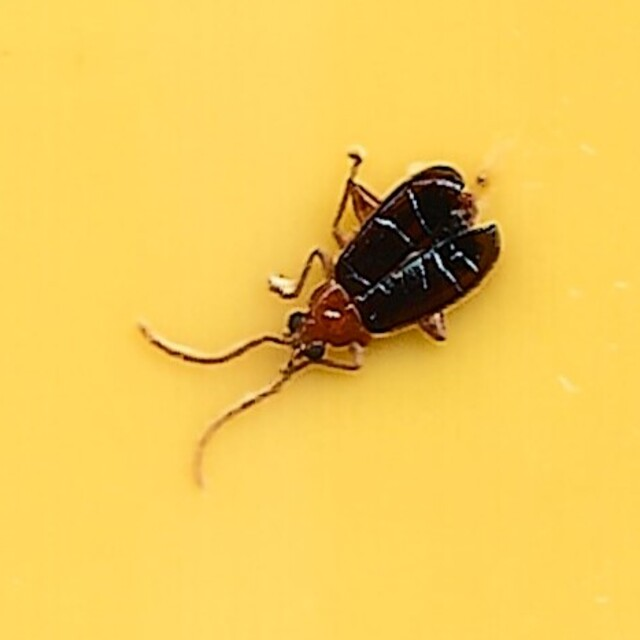Coleoptera: (137, 154, 503, 486)
